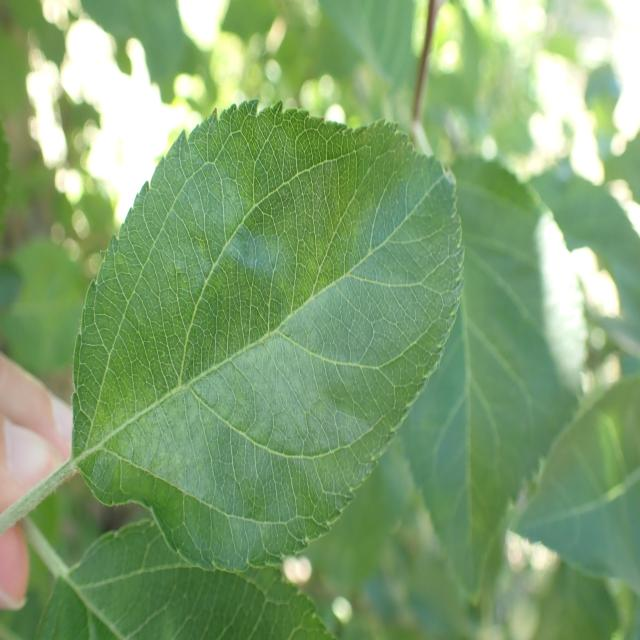healthy: (71, 96, 466, 576), (399, 154, 588, 609), (36, 515, 336, 640), (508, 371, 640, 592)
